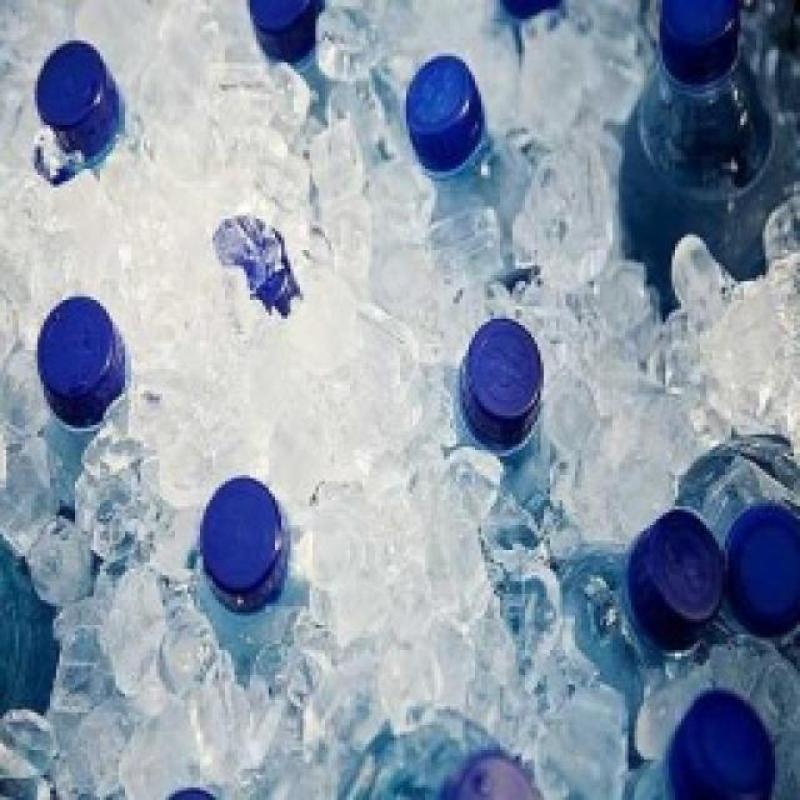botella: (624, 0, 790, 319), (0, 295, 162, 570), (166, 476, 322, 686), (566, 503, 722, 709), (438, 315, 564, 546), (677, 421, 800, 640), (396, 53, 519, 269), (656, 687, 791, 800), (239, 0, 349, 135), (21, 40, 127, 162), (404, 725, 544, 800), (207, 215, 298, 316), (491, 0, 570, 31), (154, 784, 220, 800)
